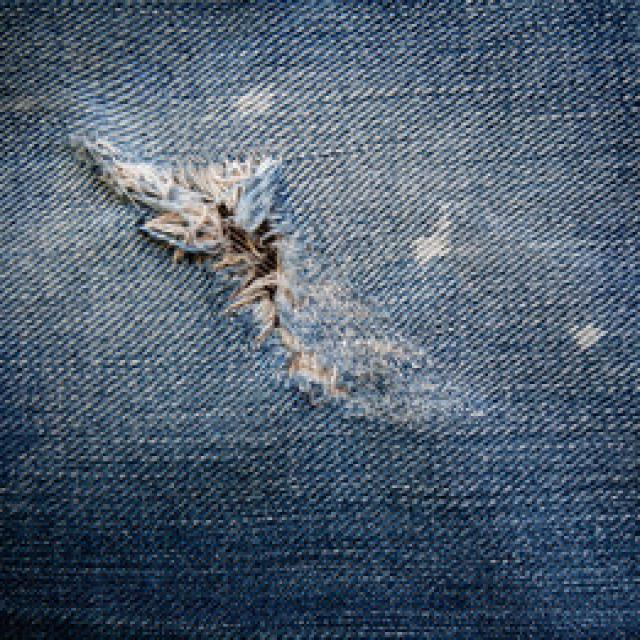Hole: (69, 129, 437, 423)
